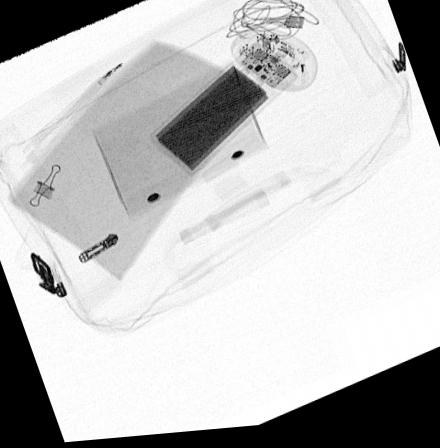Powerbank: (150, 45, 299, 179)
